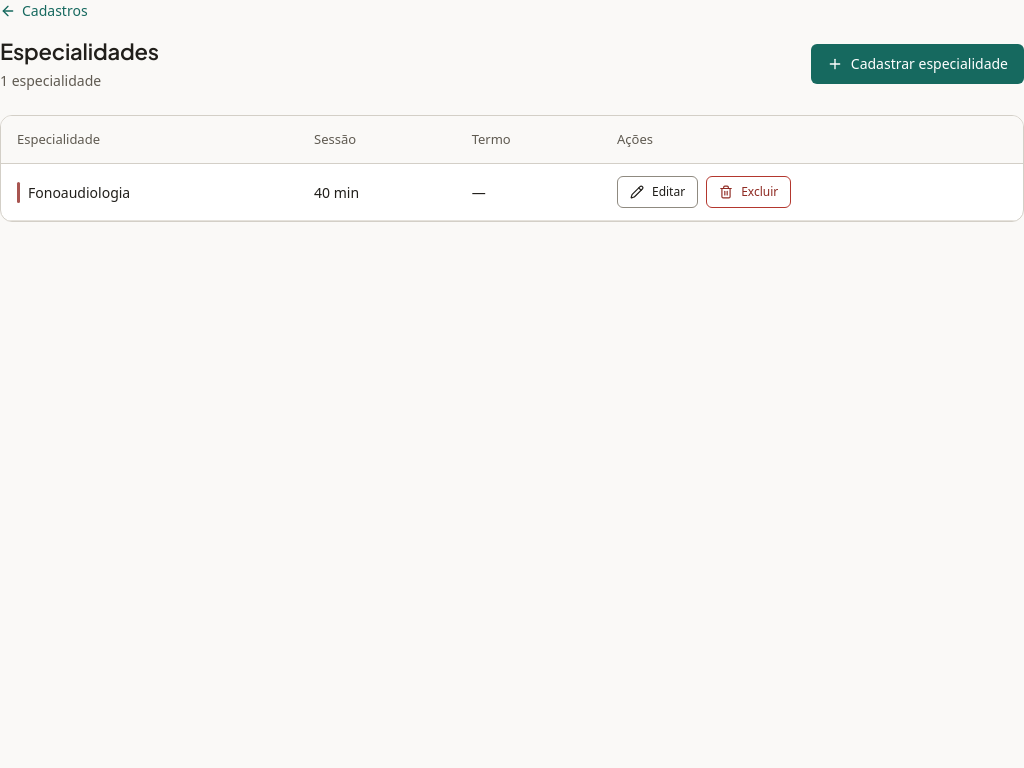
Test: Catálogo — exclusão recusada por uso › deve nomear o alvo no diálogo — nunca "este registro"
Expected: the text "Fonoaudiologia" is shown, [28, 182, 130, 203]
Click the button "Excluir": x=749, y=192 [706, 176, 791, 208]
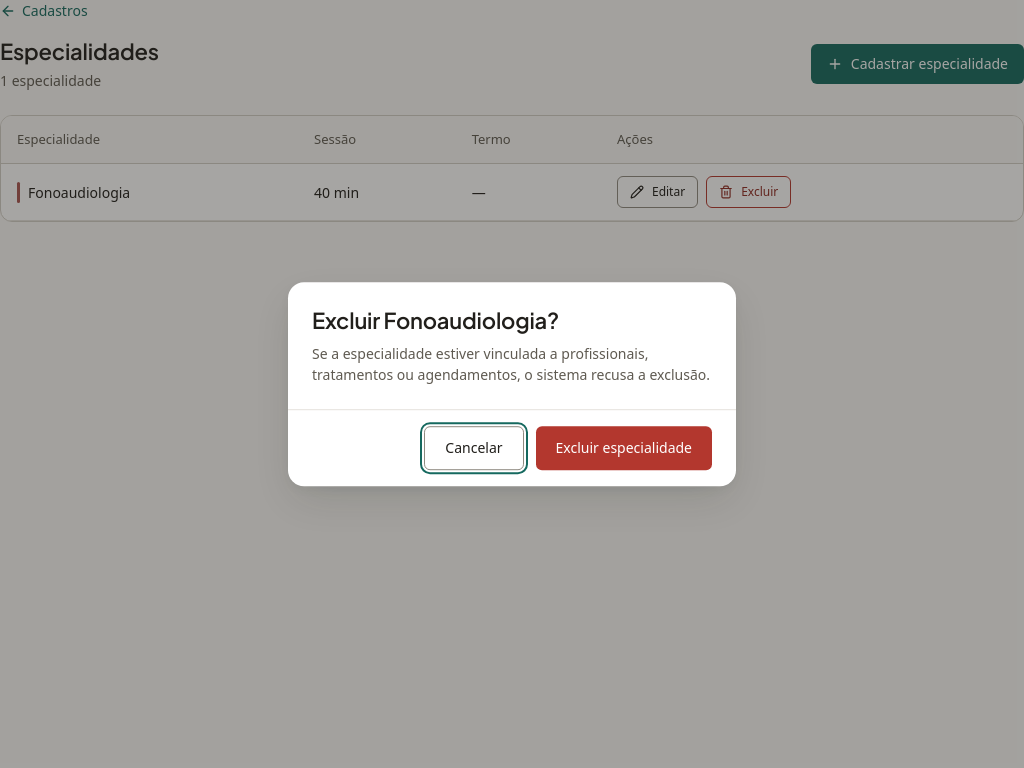
Expected: the heading "Excluir Fonoaudiologia?" is shown, [312, 306, 559, 334]
